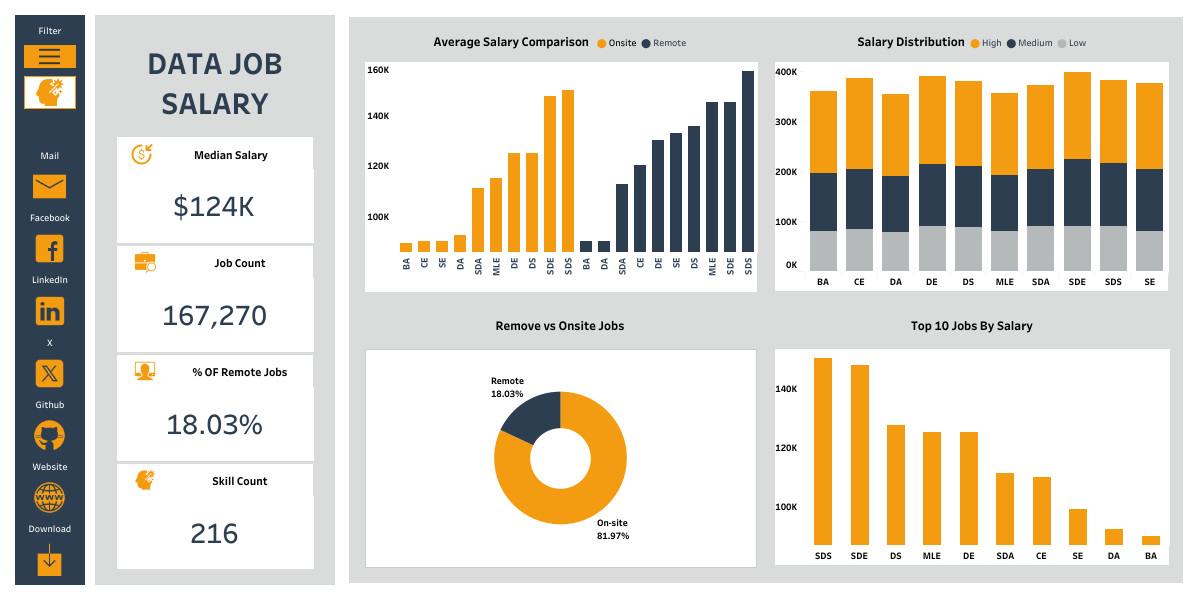

Layout of this report page (visuals, bound fields, positions):
{"tool":"tableau","page":{"name":"Salary Dashboard","canvas":[1200,600],"ordinal":0},"visuals":[{"type":"blank","box":[126,18,181,36]},{"type":"text","box":[20,20,60,21]},{"type":"text","box":[354,22,412,27]},{"type":"text","box":[766,22,412,27]},{"type":"text","box":[107,27,216,110]},{"type":"dashboard-object","box":[20,41,60,31.1]},{"type":"worksheet","title":"Average Salary Comparison","mark":"Bar","rows":["salary_year_avg"],"cols":["Calculation_843017613236060162","job_title_short"],"box":[354,49,412,251]},{"type":"worksheet","title":"Salary Distribution","mark":"Automatic","rows":["salary_year_avg"],"cols":["job_title_short"],"box":[766,49,412,251]},{"type":"text","box":[126,54,181,25.2]},{"type":"dashboard-object","box":[20,72.1,60,41.1]},{"type":"blank","box":[126,79.2,181,12]},{"type":"filter","title":"Average Salary Comparison","param":"[federated.1tlz0m01tmru0j10yg1da0a4o4ct].[none:job_country:nk]","box":[126,91.2,181,51.6]},{"type":"blank","box":[20,113.2,60,32]},{"type":"image","param":"Image/icons8-income-50.png","box":[117,140,50,29]},{"type":"text","box":[167,140,128,29]},{"type":"blank","box":[126,142.8,181,12]},{"type":"text","box":[20,145.2,60,21]},{"type":"filter","title":"Average Salary Comparison","param":"[federated.1tlz0m01tmru0j10yg1da0a4o4ct].[none:job_via:nk]","box":[126,154.8,181,51.6]},{"type":"image","param":"Image/icons8-mail-50.png","box":[20,166.2,60,41.1]},{"type":"worksheet","title":"KPI Median Salary","mark":"Automatic","box":[107,169,216,77]},{"type":"blank","box":[126,206.4,181,12]},{"type":"text","box":[20,207.3,60,21]},{"type":"filter","title":"Average Salary Comparison","param":"[federated.1tlz0m01tmru0j10yg1da0a4o4ct].[none:job_skills:nk]","box":[126,218.4,181,51.6]},{"type":"image","param":"Image/icons8-facebook-50.png","box":[20,228.3,60,41.1]},{"type":"image","param":"Image/icons8-job-seeker-50.png","box":[120,249,50,26]},{"type":"text","box":[170,249,140,26]},{"type":"text","box":[20,269.4,60,21]},{"type":"blank","box":[126,270,181,12]},{"type":"worksheet","title":"KPI Total Job","mark":"Automatic","box":[107,278,216,77]},{"type":"filter","title":"Remote vs On-site Jobs","param":"[federated.1tlz0m01tmru0j10yg1da0a4o4ct].[Action (Job Title Short)]","box":[126,282,181,242.4]},{"type":"image","param":"Image/icons8-linkedin-50.png","box":[20,290.4,60,41.1]},{"type":"text","box":[354,300,411.6,38.7]},{"type":"text","box":[765.6,300,412.4,38.7]},{"type":"text","box":[20,331.5,60,21]},{"type":"worksheet","title":"Remote vs On-site Jobs","mark":"Pie","rows":["Calculation_921267665590906883","Calculation_921267665590906883"],"box":[354,338.7,411.6,239.3]},{"type":"worksheet","title":"Top 10 Jobs By Salary","mark":"Bar","rows":["salary_year_avg"],"cols":["job_title_short"],"box":[765.6,338.7,412.4,239.3]},{"type":"image","param":"Image/icons8-x-50.png","box":[20,352.5,60,41.1]},{"type":"image","param":"Image/icons8-workspace-50.png","box":[120,358,50,26]},{"type":"text","box":[170,358,140,26]},{"type":"worksheet","title":"KPI % Of Remote Job","mark":"Automatic","box":[107,387,216,77]},{"type":"text","box":[20,393.7,60,21]},{"type":"image","param":"Image/icons8-github-50.png","box":[20,414.7,60,41.1]},{"type":"text","box":[20,455.8,60,21]},{"type":"image","param":"Image/icons8-skill-50 1.png","box":[120,467,50,26]},{"type":"text","box":[170,467,140,26]},{"type":"image","param":"Image/icons8-website-50.png","box":[20,476.8,60,41.1]},{"type":"worksheet","title":"Skill Count","mark":"Automatic","box":[107,496,216,77]},{"type":"text","box":[20,517.9,60,21]},{"type":"dashboard-object","box":[20,538.9,60,41.1]}]}

Visuals, with their boxes on the page's 1200x600 design canvas (x1, y1, x2, y2). These are canvas units, not pixel positions in the 1199x599 screenshot, which may show the page scaled, cropped or inside an application window:
blank: locate(126, 18, 307, 54)
text: locate(20, 20, 80, 41)
text: locate(354, 22, 766, 49)
text: locate(766, 22, 1178, 49)
text: locate(107, 27, 323, 137)
dashboard-object: locate(20, 41, 80, 72)
"Average Salary Comparison" worksheet (Bar marks): locate(354, 49, 766, 300)
"Salary Distribution" worksheet: locate(766, 49, 1178, 300)
text: locate(126, 54, 307, 79)
dashboard-object: locate(20, 72, 80, 113)
blank: locate(126, 79, 307, 91)
"Average Salary Comparison" filter: locate(126, 91, 307, 143)
blank: locate(20, 113, 80, 145)
image: locate(117, 140, 167, 169)
text: locate(167, 140, 295, 169)
blank: locate(126, 143, 307, 155)
text: locate(20, 145, 80, 166)
"Average Salary Comparison" filter: locate(126, 155, 307, 206)
image: locate(20, 166, 80, 207)
"KPI Median Salary" worksheet: locate(107, 169, 323, 246)
blank: locate(126, 206, 307, 218)
text: locate(20, 207, 80, 228)
"Average Salary Comparison" filter: locate(126, 218, 307, 270)
image: locate(20, 228, 80, 269)
image: locate(120, 249, 170, 275)
text: locate(170, 249, 310, 275)
text: locate(20, 269, 80, 290)
blank: locate(126, 270, 307, 282)
"KPI Total Job" worksheet: locate(107, 278, 323, 355)
"Remote vs On-site Jobs" filter: locate(126, 282, 307, 524)
image: locate(20, 290, 80, 332)
text: locate(354, 300, 766, 339)
text: locate(766, 300, 1178, 339)
text: locate(20, 332, 80, 352)
"Remote vs On-site Jobs" worksheet (Pie marks): locate(354, 339, 766, 578)
"Top 10 Jobs By Salary" worksheet (Bar marks): locate(766, 339, 1178, 578)
image: locate(20, 352, 80, 394)
image: locate(120, 358, 170, 384)
text: locate(170, 358, 310, 384)
"KPI % Of Remote Job" worksheet: locate(107, 387, 323, 464)
text: locate(20, 394, 80, 415)
image: locate(20, 415, 80, 456)
text: locate(20, 456, 80, 477)
image: locate(120, 467, 170, 493)
text: locate(170, 467, 310, 493)
image: locate(20, 477, 80, 518)
"Skill Count" worksheet: locate(107, 496, 323, 573)
text: locate(20, 518, 80, 539)
dashboard-object: locate(20, 539, 80, 580)
